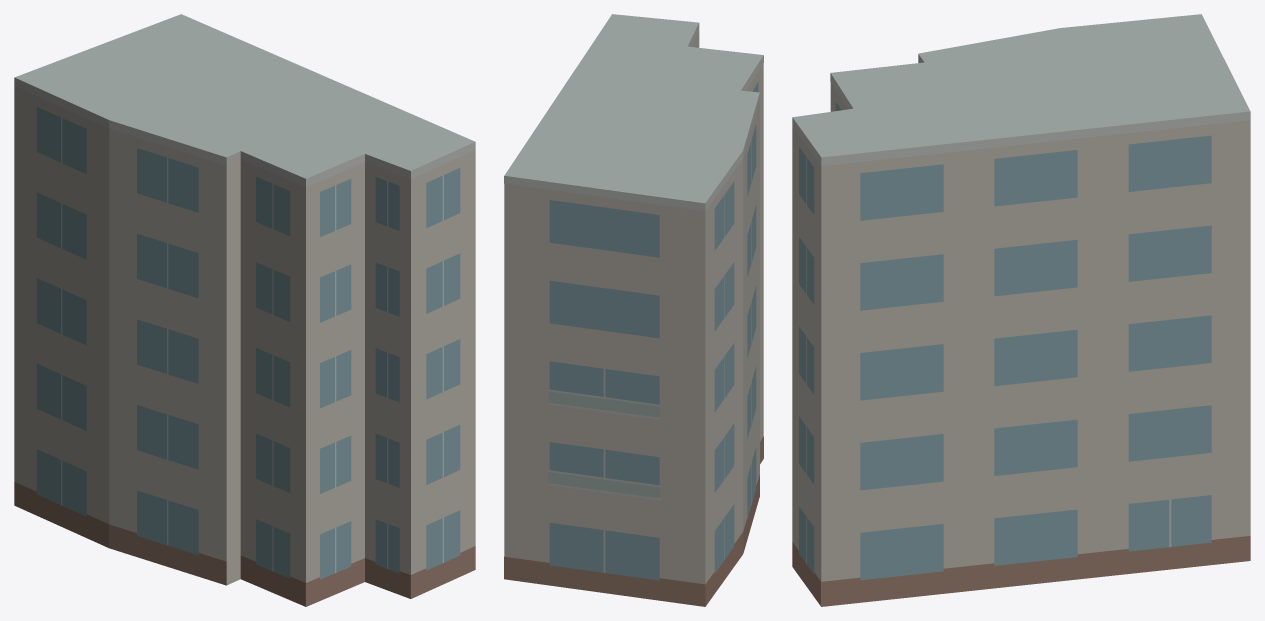
Rendered from survey-upis-32461531.glb.
3 views of the same model, side by side, from view 1: azimuth 30°, elevation 25°; view 2: azimuth 150°, elevation 25°; view 3: azimuth 270°, elevation 25° (orthographic). The views are drawn at different scales.
Parts seen in each view (by area): view 1: survey-upis-32461531.tmp; view 2: survey-upis-32461531.tmp; view 3: survey-upis-32461531.tmp.
Boxes of the visible parts, box(x1,y1,x2,y2) form: survey-upis-32461531.tmp: box(14, 14, 475, 606); survey-upis-32461531.tmp: box(504, 14, 763, 606); survey-upis-32461531.tmp: box(792, 14, 1250, 606).
Bounding box in the file's own units: 8.63 × 12.6 × 11.65.
